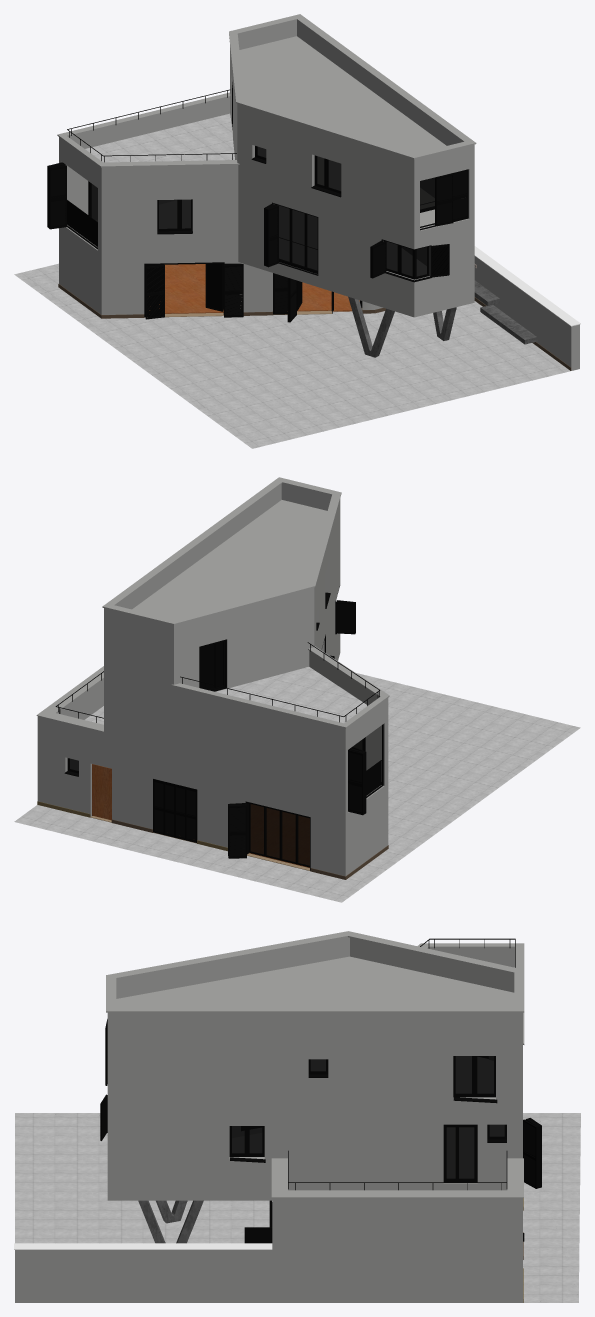
Rendered from modernHouseAndr.glb.
3 renders of one model, top to bottom at view 1: azimuth 30°, elevation 25°; view 2: azimuth 150°, elevation 25°; view 3: azimuth 270°, elevation 25°, orthographic. The views are drawn at different scales.
Visible parts, largest first — view 1: Palit_House_935, Palit_House_1756, Palit_House_007, Palit_House_002, Buffer Layer (×2), Merged Objects 1, Palit_House_014, Palit_House_1757, Palit_House_005, Palit_House_013, Palit_House_003, Palit_House_008 (+9 smaller); view 2: Palit_House_935, Palit_House_1756, Palit_House_007, Palit_House_002, Buffer Layer (×2), Palit_House_014, Palit_House_005, Palit_House_013, Merged Objects 1, Palit_House_009, Palit_House_914, Palit_House_968 (+4 smaller); view 3: Palit_House_935, Palit_House_1757, Palit_House_1756, Palit_House_007, Palit_House_014, Palit_House_009, Palit_House_008, Palit_House_1754, Palit_House_943, Palit_House_013, Merged Objects 1, Palit_House_928 (+3 smaller).
Part boxes in pixels (box(x1,y1,x2,y2)): Palit_House_935: box(59, 20, 474, 317); Palit_House_1756: box(14, 263, 570, 448); Palit_House_007: box(239, 36, 446, 153); Palit_House_002: box(59, 233, 382, 314); Buffer Layer (×2): box(85, 113, 434, 226); Merged Objects 1: box(47, 162, 468, 310); Palit_House_014: box(229, 14, 476, 159); Palit_House_1757: box(474, 256, 579, 370); Palit_House_005: box(149, 264, 359, 313); Palit_House_013: box(57, 92, 239, 167); Palit_House_003: box(96, 200, 426, 275); Palit_House_008: box(474, 246, 580, 326); Palit_House_935: box(104, 483, 388, 825); Palit_House_1756: box(14, 673, 580, 902); Palit_House_007: box(132, 500, 327, 619); Palit_House_002: box(42, 751, 388, 876); Buffer Layer (×2): box(42, 667, 367, 766); Palit_House_014: box(102, 477, 341, 624); Palit_House_005: box(249, 805, 309, 867); Palit_House_013: box(171, 646, 389, 728); Merged Objects 1: box(322, 604, 383, 815); Palit_House_009: box(36, 666, 103, 731); Palit_House_914: box(92, 764, 111, 820); Palit_House_968: box(266, 808, 279, 858); Palit_House_935: box(107, 937, 522, 1200); Palit_House_1757: box(15, 1198, 522, 1302); Palit_House_1756: box(15, 1113, 580, 1302); Palit_House_007: box(116, 956, 514, 1006); Palit_House_014: box(106, 931, 524, 1012); Palit_House_009: box(271, 1158, 523, 1197); Palit_House_008: box(14, 1243, 272, 1249); Palit_House_1754: box(138, 1200, 203, 1243); Palit_House_943: box(459, 1127, 474, 1179); Palit_House_013: box(417, 943, 524, 1044); Merged Objects 1: box(105, 1019, 272, 1243); Palit_House_928: box(477, 1056, 493, 1094).
Bounding box in the file's own units: 0.4544 × 0.2828 × 0.5723.
Materials: 1123 (9 with a texture image).
